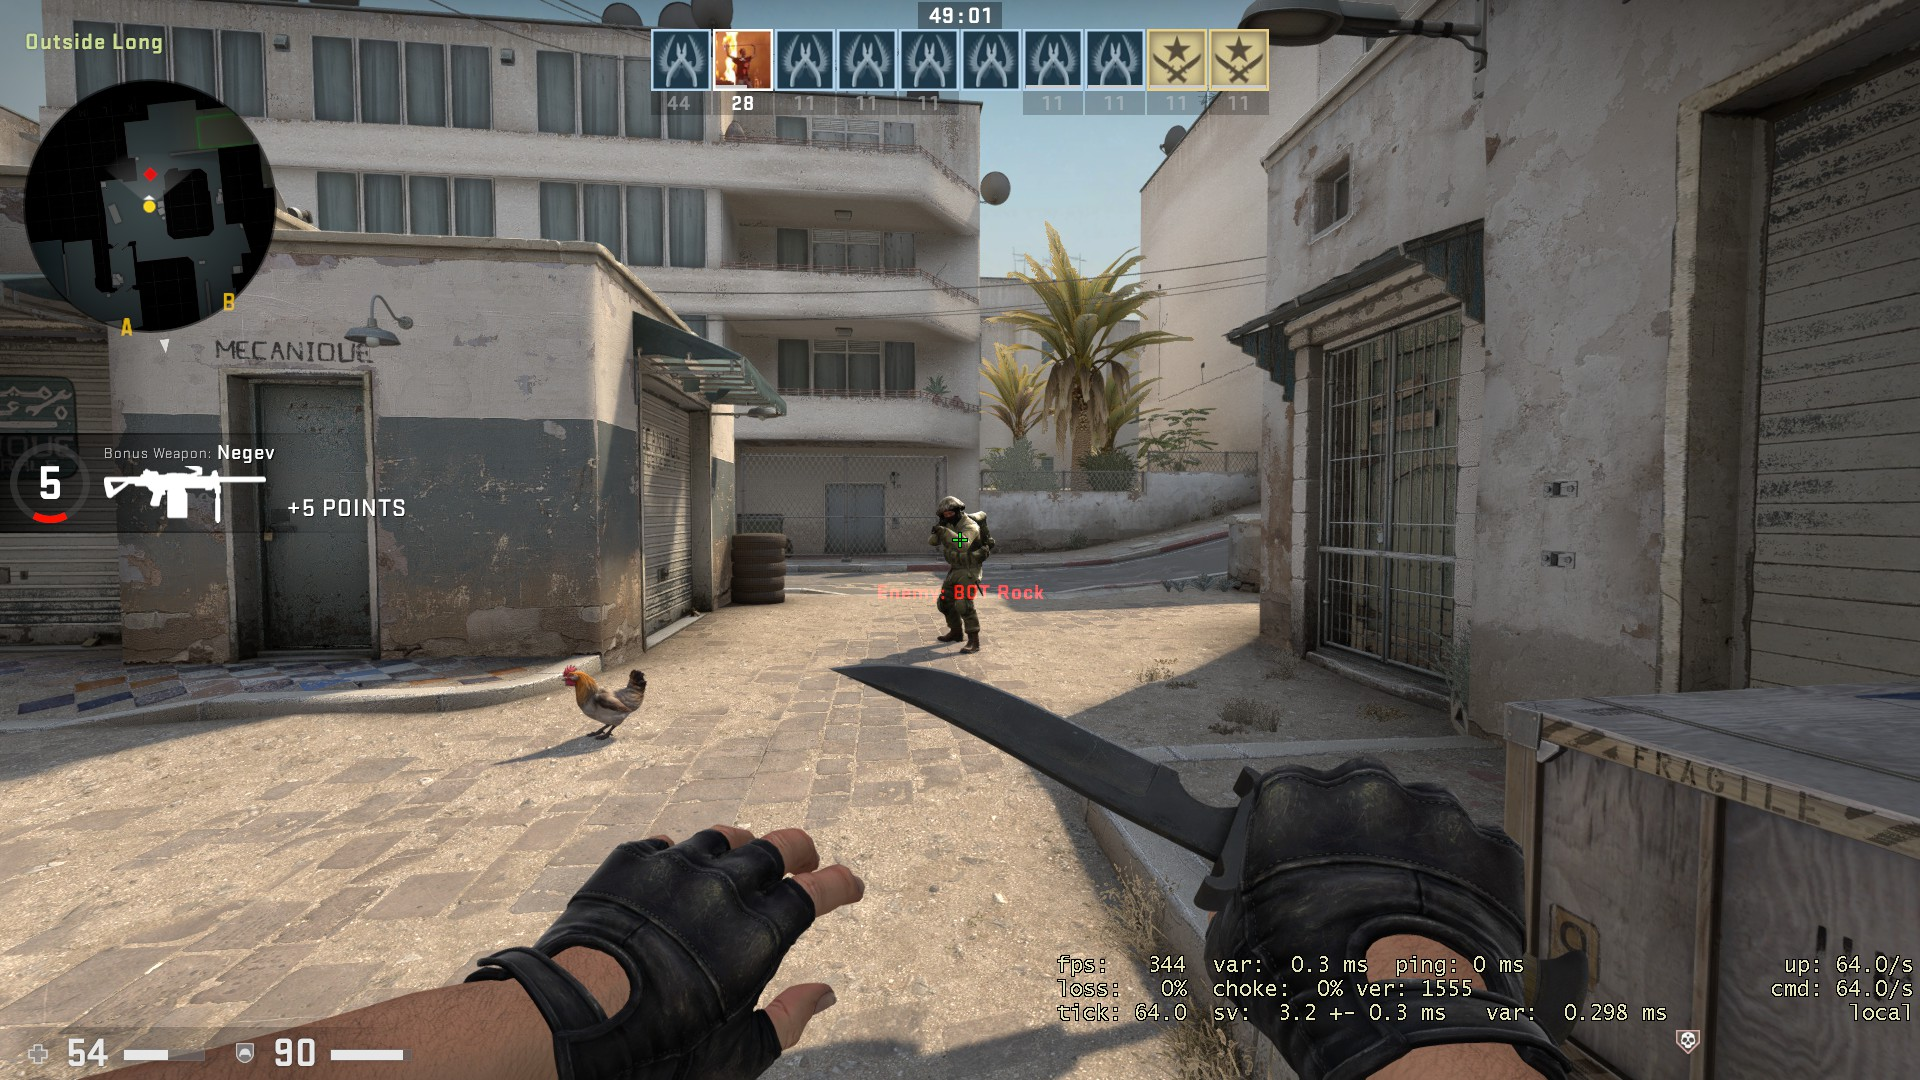player: (923, 489, 1000, 657)
